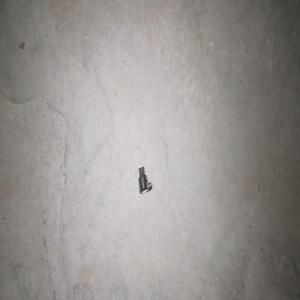MetalPart: (137, 166, 152, 194)
